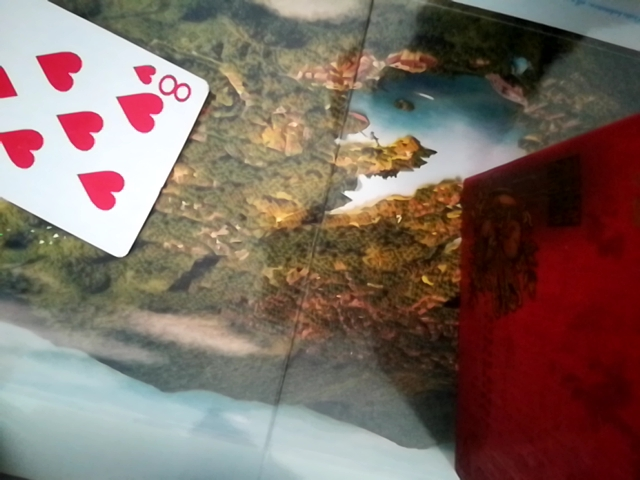hx 8: (0, 0, 206, 258)
